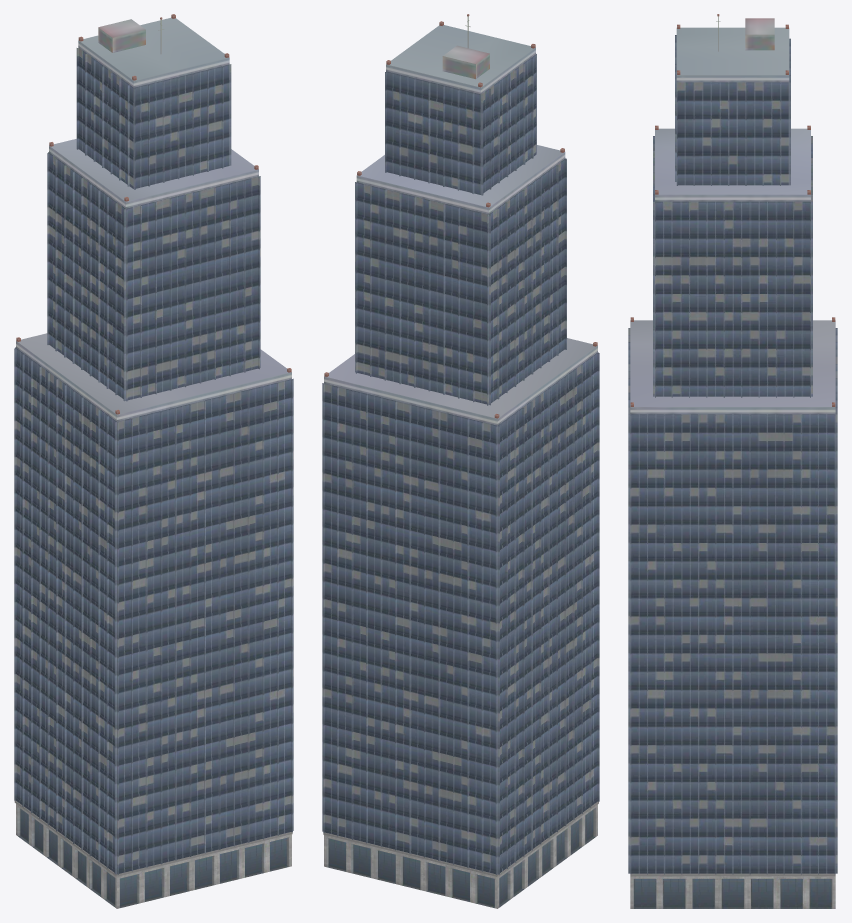
Rendered from tokyo_glasstower_c.glb.
3 views of the same model, side by side, from view 1: azimuth 30°, elevation 25°; view 2: azimuth 150°, elevation 25°; view 3: azimuth 270°, elevation 25° (orthographic). The views are drawn at different scales.
Parts seen in each view (by area): view 1: tokyo_glasstower_c; view 2: tokyo_glasstower_c; view 3: tokyo_glasstower_c.
Boxes of the visible parts, box(x1,y1,x2,y2) form: tokyo_glasstower_c: box(14, 14, 293, 908); tokyo_glasstower_c: box(322, 14, 599, 908); tokyo_glasstower_c: box(628, 14, 837, 908).
Bounding box in the file's own units: 42.81 × 192 × 42.81.
1 material, 1 textured.
